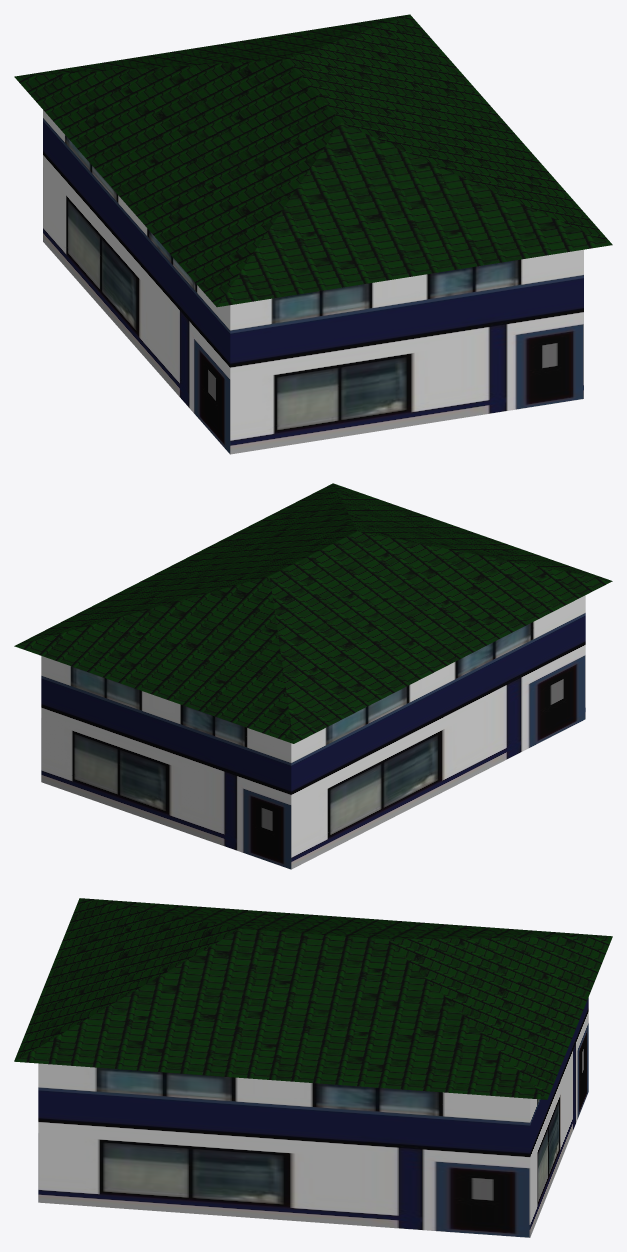
3 renders of one model, top to bottom at view 1: azimuth 30°, elevation 25°; view 2: azimuth 150°, elevation 25°; view 3: azimuth 270°, elevation 25°, orthographic. The views are drawn at different scales.
Visible parts, largest first — view 1: CityEngineMaterial_13_m, CityEngineMaterial_2_m; view 2: CityEngineMaterial_13_m, CityEngineMaterial_2_m; view 3: CityEngineMaterial_13_m, CityEngineMaterial_2_m.
Boxes of the visible parts, left/top/right/bottom form: CityEngineMaterial_13_m: left=14, top=14, right=612, bottom=307; CityEngineMaterial_2_m: left=43, top=110, right=583, bottom=454; CityEngineMaterial_13_m: left=14, top=483, right=612, bottom=743; CityEngineMaterial_2_m: left=41, top=595, right=585, bottom=869; CityEngineMaterial_13_m: left=14, top=898, right=612, bottom=1099; CityEngineMaterial_2_m: left=38, top=997, right=588, bottom=1237.
Bounding box in the file's own units: 21.36 × 10.51 × 26.79.
